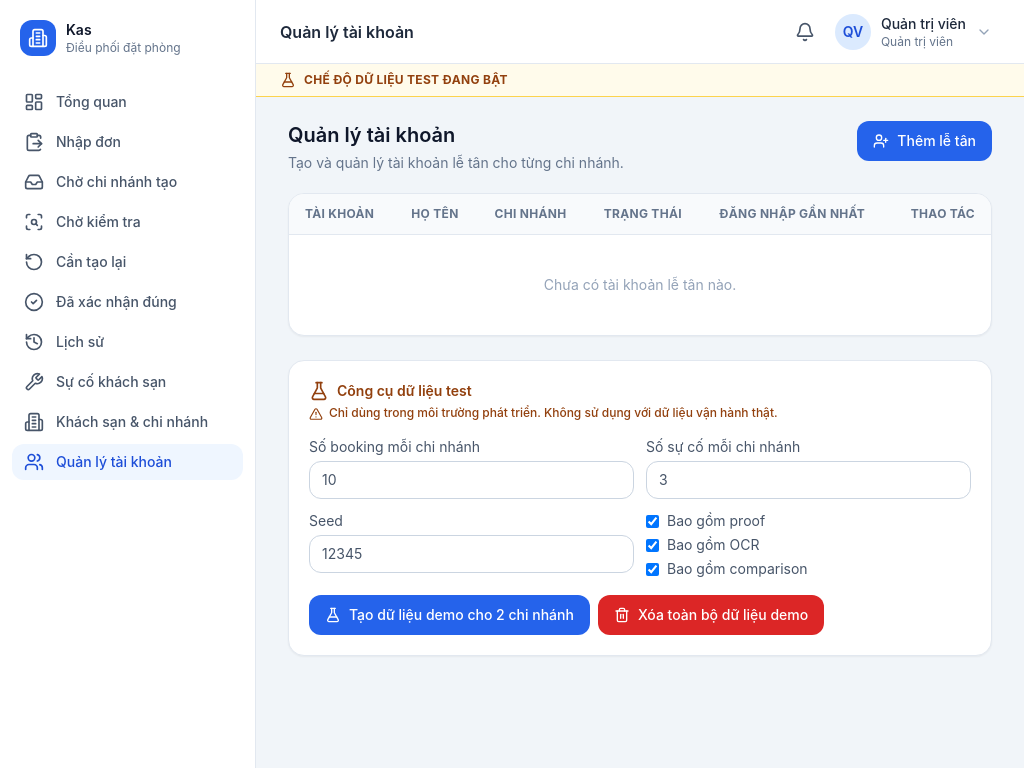
it: DevToolsPanel — admin settings › shows the panel and requires the typed phrase to enable clearing
The width and height of the screenshot is (1024, 768).
Expected: the heading "Công cụ dữ liệu test" is shown, [337, 381, 472, 401]
Note: Two-step clear: danger button → warning → typed-phrase confirm.
Click the button "Xóa toàn bộ dữ liệu demo" at (711, 615), box [598, 595, 824, 635]
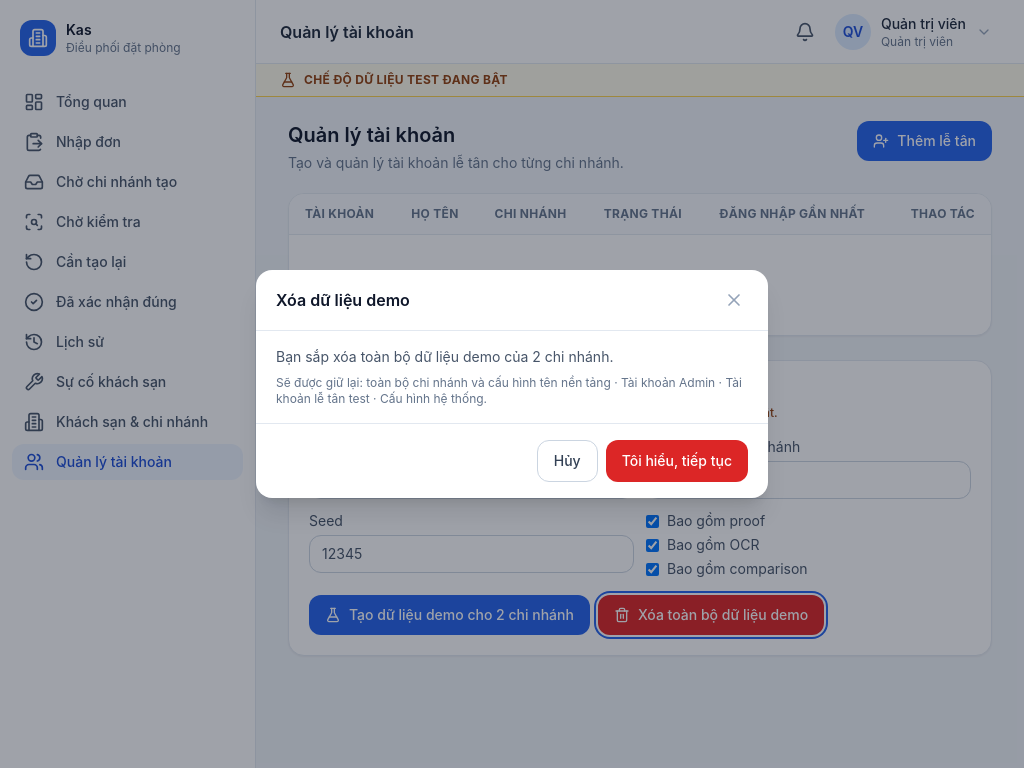
Click the button "Tôi hiểu, tiếp tục" at (677, 461), box [606, 440, 748, 482]
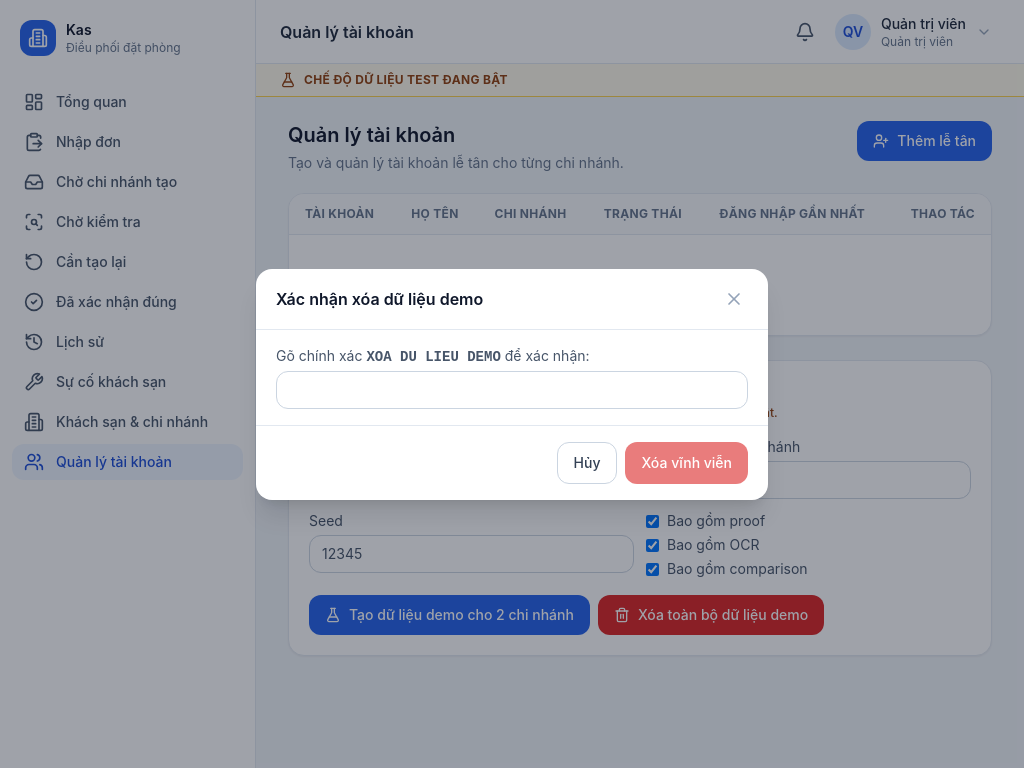
Expected: the button "Xóa vĩnh viễn" is disabled, [625, 442, 748, 484]
Type "XOA DU LIEU DEMO" into the field named "Cụm từ xác nhận xóa" at (512, 390), box [276, 370, 748, 408]
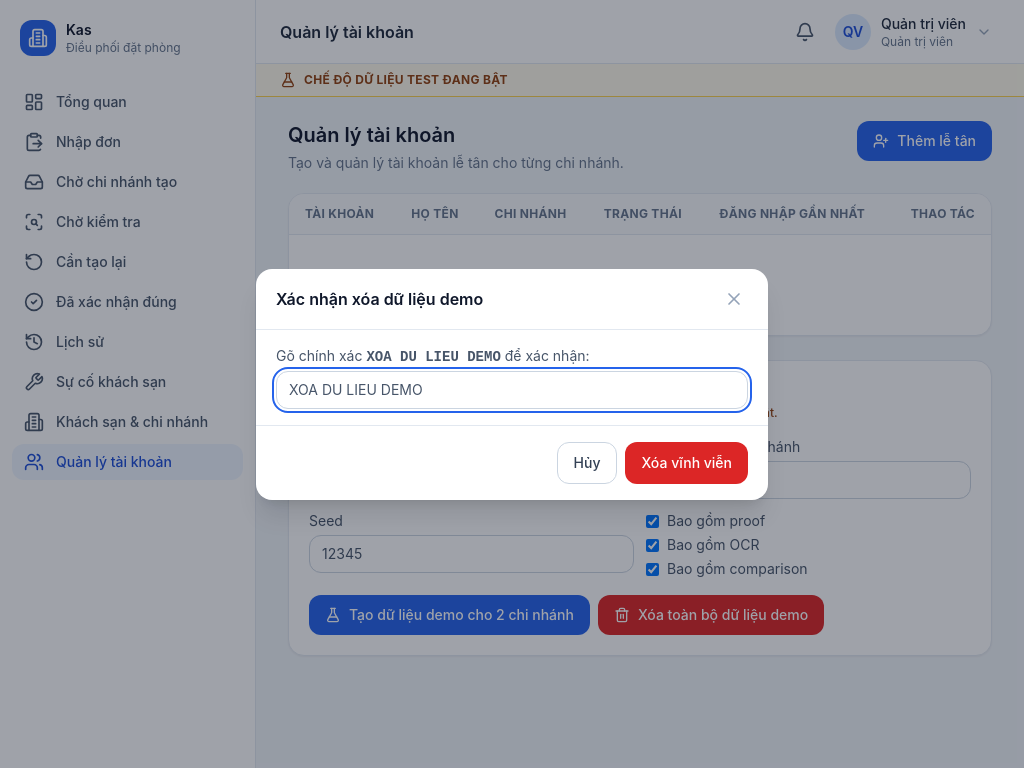
Expected: the button "Xóa vĩnh viễn" is enabled, [625, 442, 748, 484]
